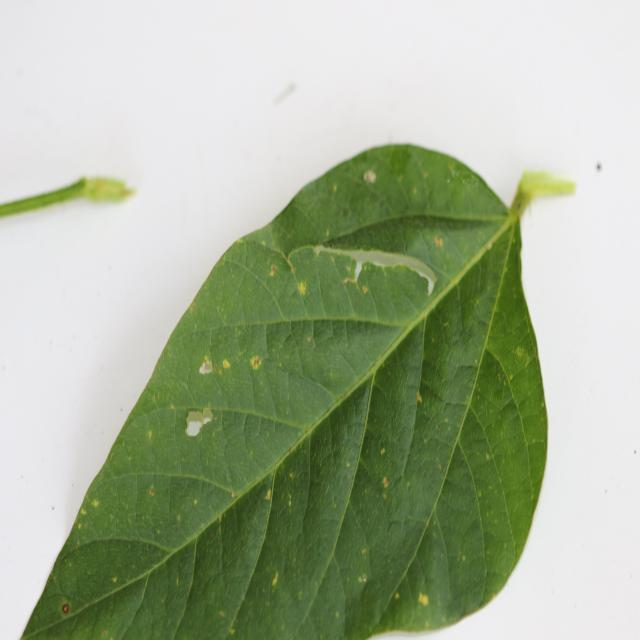Soybean: (6, 143, 576, 640)
downey_mildew: (375, 340, 521, 608), (452, 332, 533, 498), (238, 457, 313, 611), (358, 428, 413, 519), (196, 345, 268, 393), (73, 488, 112, 544), (275, 461, 305, 515), (340, 266, 370, 295), (297, 280, 307, 296), (250, 355, 261, 369), (433, 236, 443, 248), (269, 264, 276, 277), (358, 573, 367, 583), (516, 346, 524, 357), (222, 359, 230, 369), (91, 499, 99, 508), (416, 393, 422, 403), (265, 490, 271, 500), (80, 507, 87, 515), (190, 302, 195, 312), (219, 610, 225, 618), (229, 627, 235, 635), (289, 265, 295, 273), (345, 264, 351, 272), (343, 277, 349, 285), (112, 574, 117, 583), (102, 630, 108, 637), (333, 184, 338, 192), (423, 171, 428, 179), (395, 592, 400, 600), (148, 429, 152, 438), (443, 321, 449, 327), (289, 472, 294, 479), (423, 437, 428, 444), (437, 463, 442, 470), (485, 453, 490, 460), (381, 448, 386, 455), (236, 238, 243, 243), (170, 403, 175, 410), (231, 492, 236, 499), (150, 488, 155, 495), (425, 620, 430, 627), (218, 367, 222, 375), (413, 187, 417, 195), (213, 363, 217, 371), (326, 229, 330, 237), (307, 336, 312, 342), (362, 548, 367, 554), (261, 240, 266, 246), (333, 502, 337, 509), (177, 514, 181, 521), (78, 522, 82, 529), (152, 396, 156, 403), (474, 358, 478, 365), (249, 450, 253, 457), (541, 400, 545, 407), (204, 355, 208, 362), (176, 577, 179, 586), (444, 417, 448, 423), (509, 374, 513, 380), (193, 499, 197, 505), (346, 462, 350, 468), (99, 473, 103, 479), (297, 431, 301, 437), (110, 453, 113, 460), (128, 455, 131, 461), (157, 528, 160, 534)
